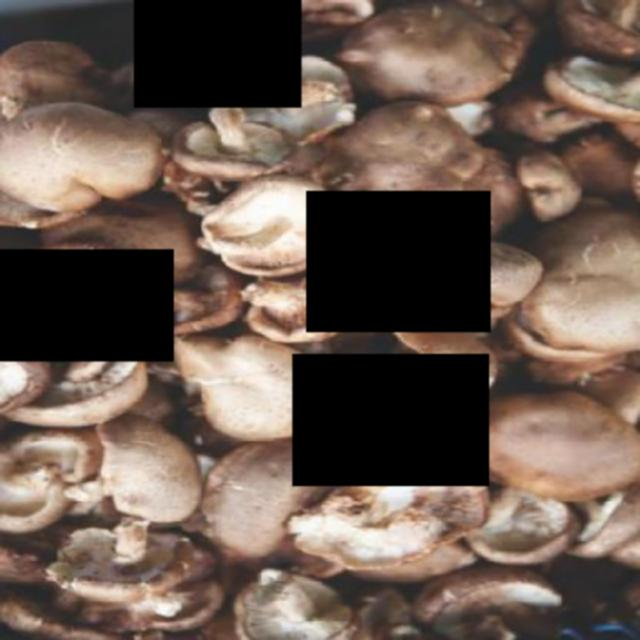Mushroom: (306, 191, 491, 332), (293, 355, 490, 487), (0, 249, 174, 362), (134, 0, 301, 108)
